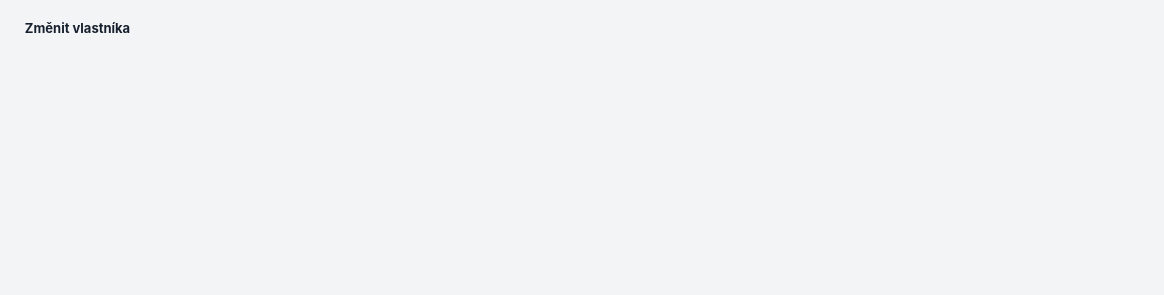
Test: OwnerChange (komponenta) › chyba serveru se ukáže ve formuláři a formulář zůstane otevřený
Step 1. Click the button "Změnit vlastníka" → (77, 28), box [12,12,143,44]
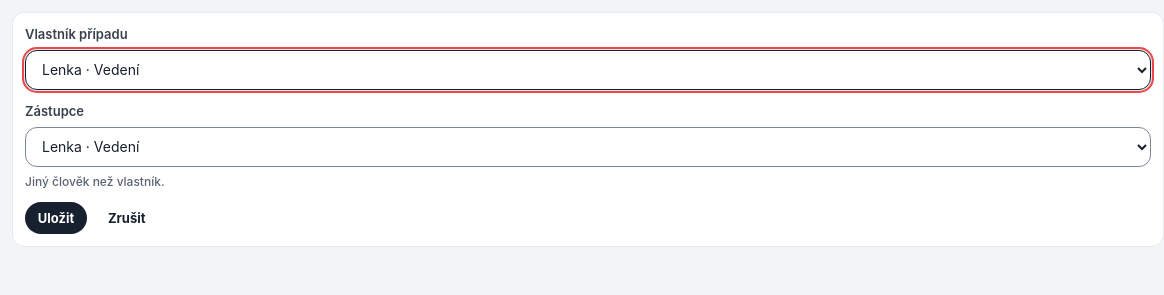
Step 2. Select "Lenka · Vedení" in the dropdown named "owner_id" → (588, 70), box [25,50,1151,90]
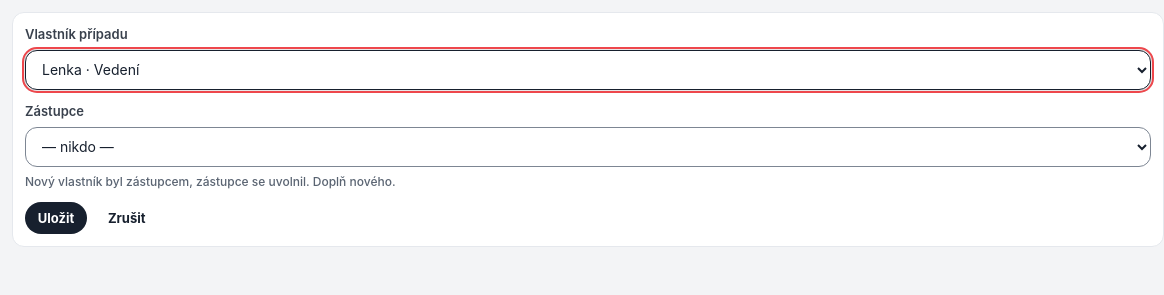
Step 3. Submit the form
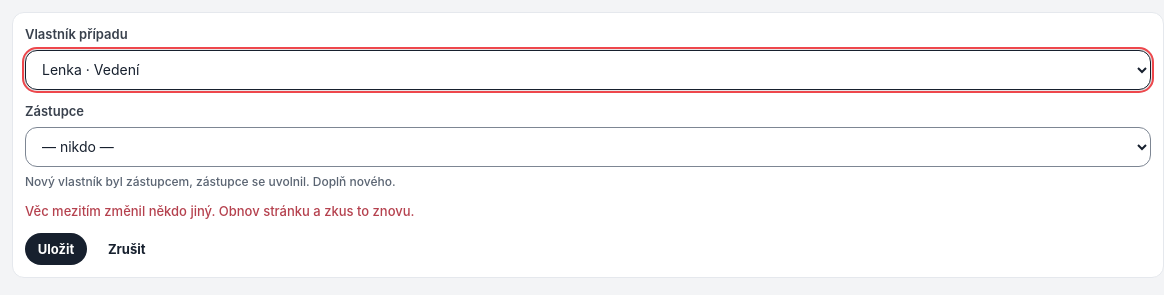
Check: the form is shown
Check: the message "Věc mezitím změnil někdo jiný. Obnov stránku a zkus to znovu." is shown, box [25,203,414,219]
